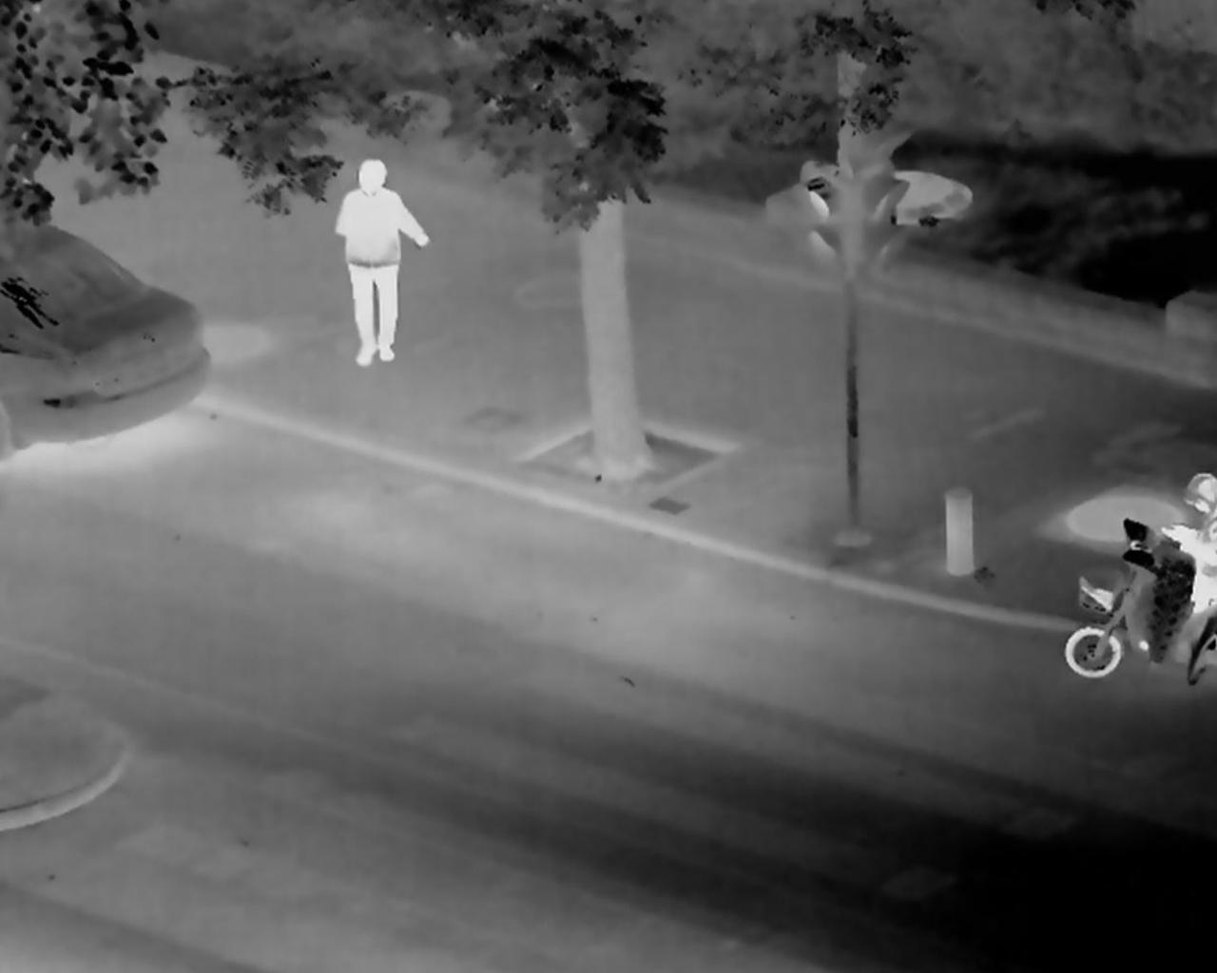person: (305, 151, 442, 398), (1160, 451, 1217, 637)
